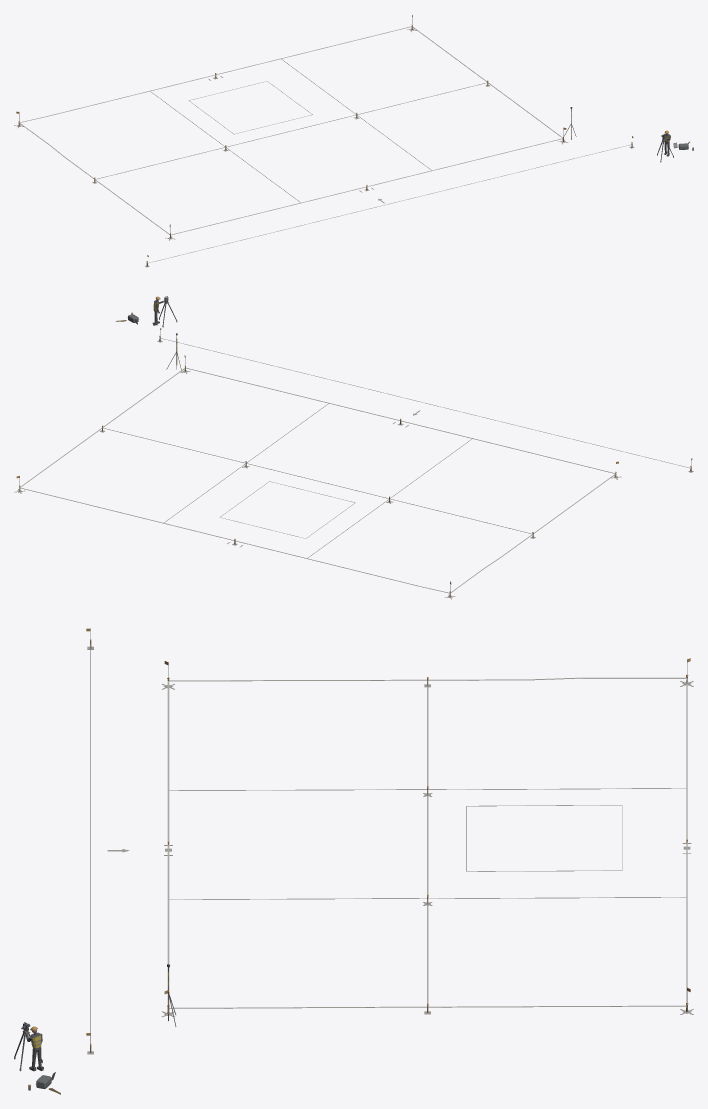
File: survey_layer.glb
3 views of the same model, one above another, from view 1: azimuth 30°, elevation 25°; view 2: azimuth 150°, elevation 25°; view 3: azimuth 270°, elevation 25° (orthographic). The views are drawn at different scales.
Parts seen in each view (by area): view 1: LINE_03, LINE_01, LINE_08, LINE_05; view 2: LINE_03, LINE_01, LINE_08; view 3: LINE_01, LINE_04, LINE_02.
Boxes of the visible parts, box(x1,y1,x2,y2) form: LINE_03: box(20, 26, 411, 122); LINE_01: box(171, 138, 562, 235); LINE_08: box(148, 144, 631, 263); LINE_05: box(95, 82, 487, 179); LINE_03: box(20, 487, 449, 593); LINE_01: box(186, 367, 614, 473); LINE_08: box(160, 338, 690, 468); LINE_01: box(167, 681, 169, 1004); LINE_04: box(169, 677, 686, 681); LINE_02: box(169, 1005, 686, 1008).
Size of the model in its own units: 40.91 by 2.46 by 26.23.
